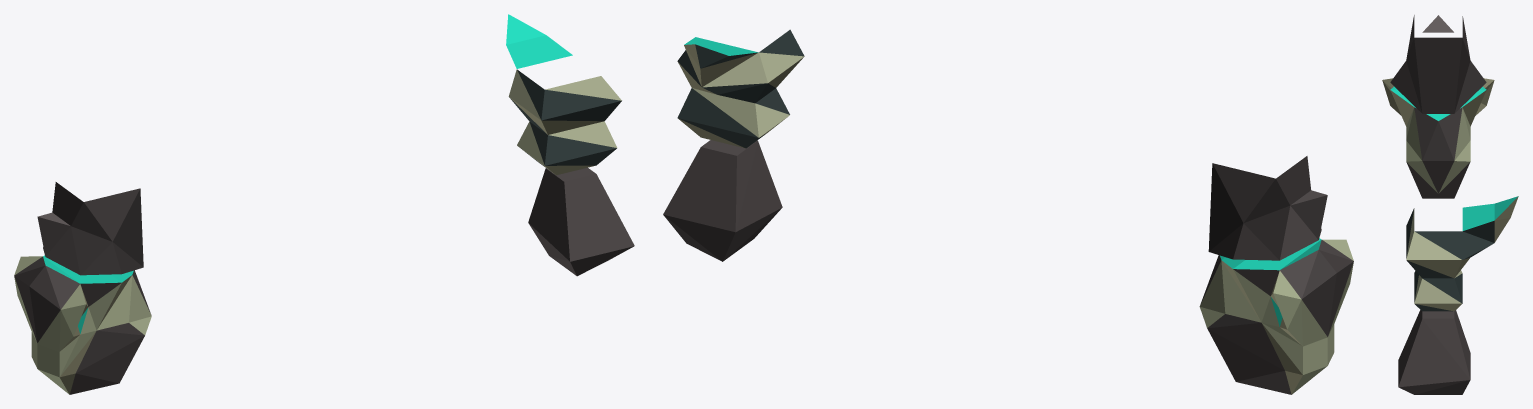
The model's file is player_ferocious_gloves.glb.
3 views of the same model, side by side, from view 1: azimuth 30°, elevation 25°; view 2: azimuth 150°, elevation 25°; view 3: azimuth 270°, elevation 25° (orthographic). The views are drawn at different scales.
Size of the model in its own units: 72 by 27 by 17.
1 material, 1 textured.
